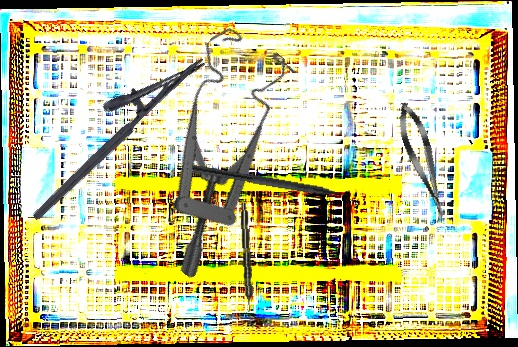Chopper: (190, 164, 360, 211)
Handpiece: (239, 202, 254, 313)
Micro Scissor: (391, 98, 455, 227)
Needle Holder: (9, 33, 208, 222)
Speculum: (86, 15, 335, 280)
